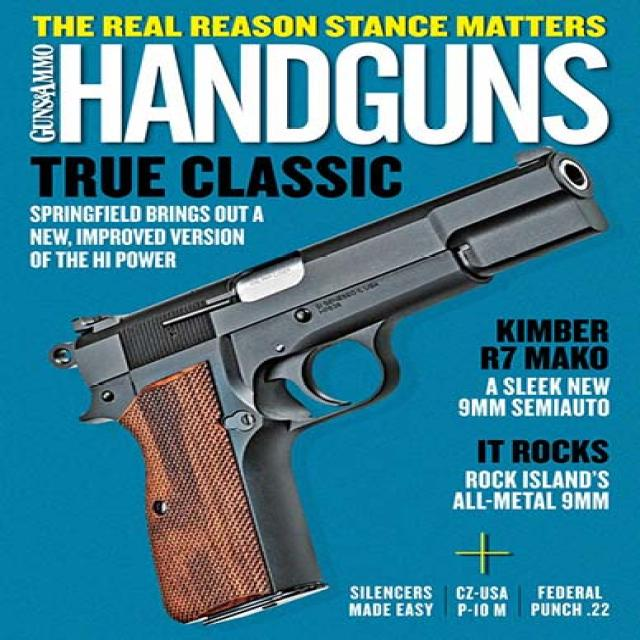HandGun: (51, 150, 612, 624)
